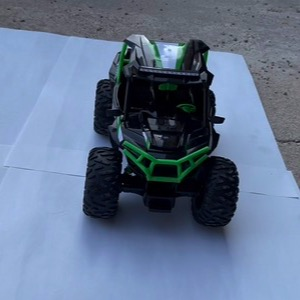polaris: (83, 35, 241, 230)
